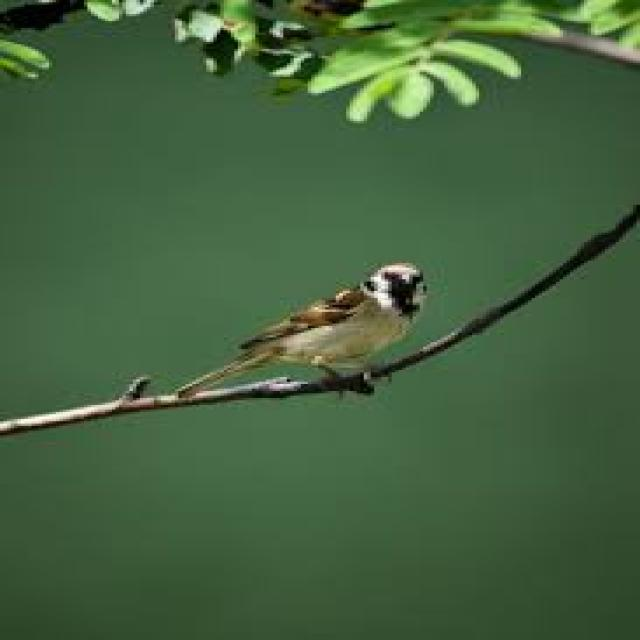bird: (178, 258, 440, 401)
